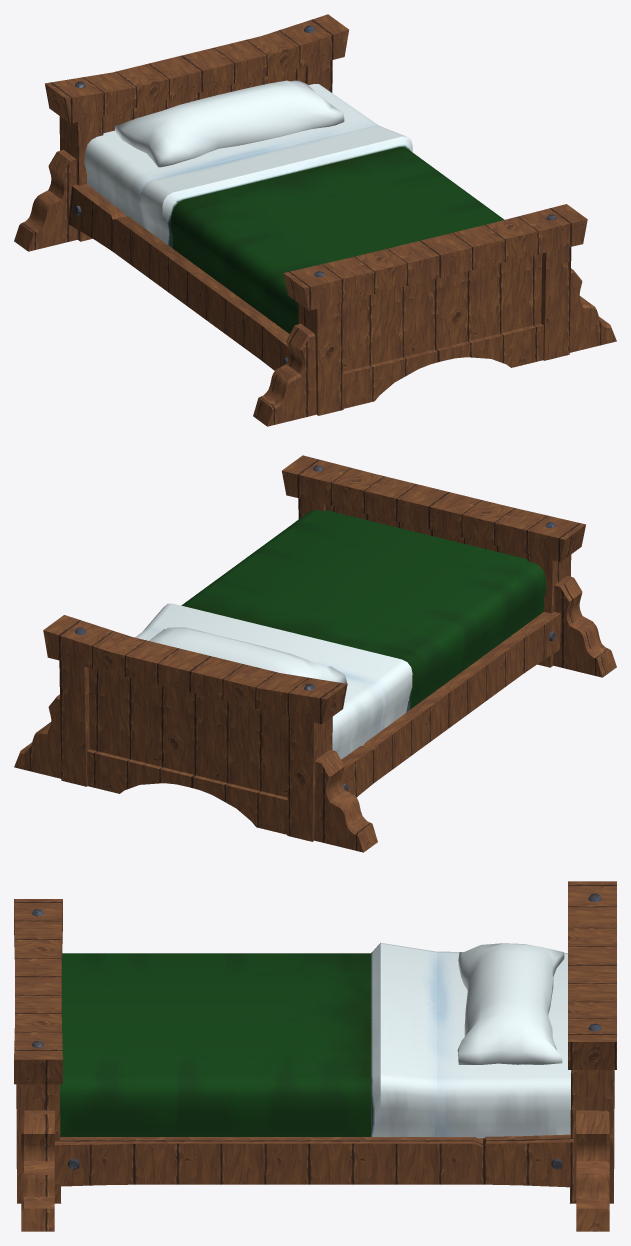
Rendered from furn_bed_2.glb.
3 renders of one model, top to bottom at view 1: azimuth 30°, elevation 25°; view 2: azimuth 150°, elevation 25°; view 3: azimuth 270°, elevation 25°, orthographic. The views are drawn at different scales.
Parts seen in each view (by area): view 1: model; view 2: model; view 3: model.
Part boxes in pixels (box(x1,y1,x2,y2)): model: box(14, 14, 616, 426); model: box(14, 455, 616, 852); model: box(14, 881, 616, 1231).
Size of the model in its own units: 1.88 by 0.7596 by 2.41.
3 materials, 3 textured.
